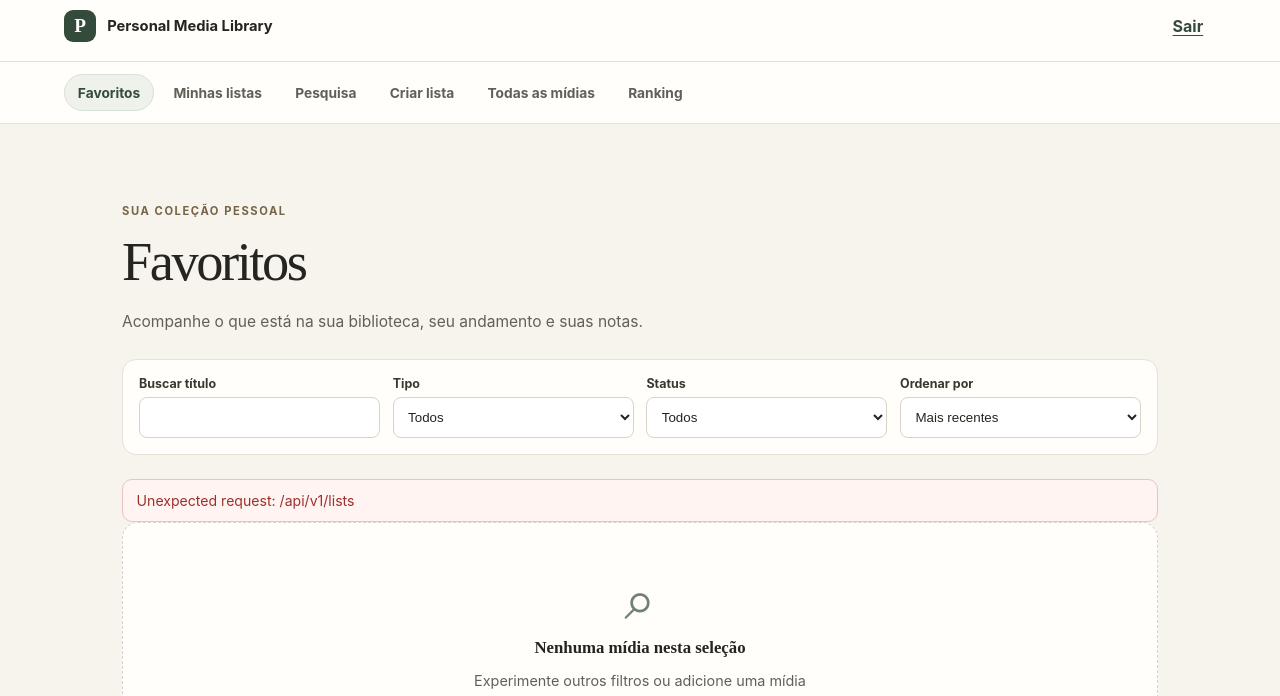
cenario6_exibirDetalhesDaMidia › loads the complete media details through the provider endpoint
Step 1. Click the button "Pesquisa" → (326, 93), box [281,74,370,111]
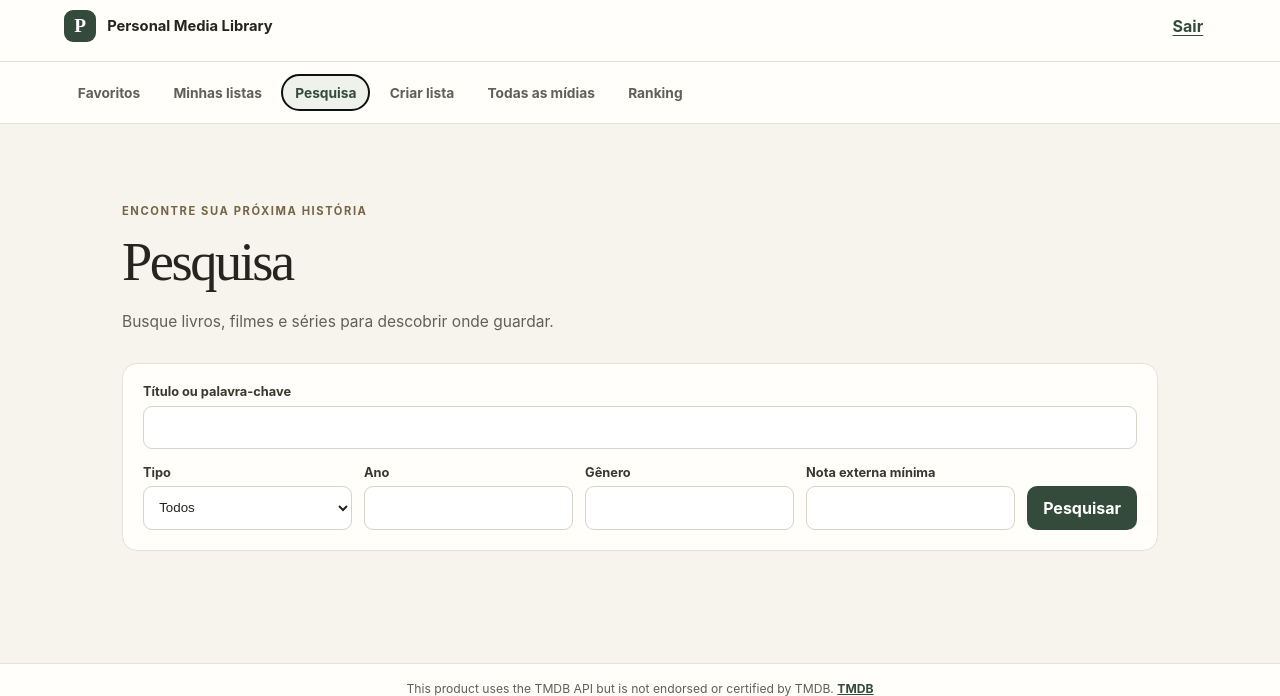
Step 2. Type "Duna" into the field labelled "Título ou palavra-chave" → (640, 427), box [143,406,1137,449]
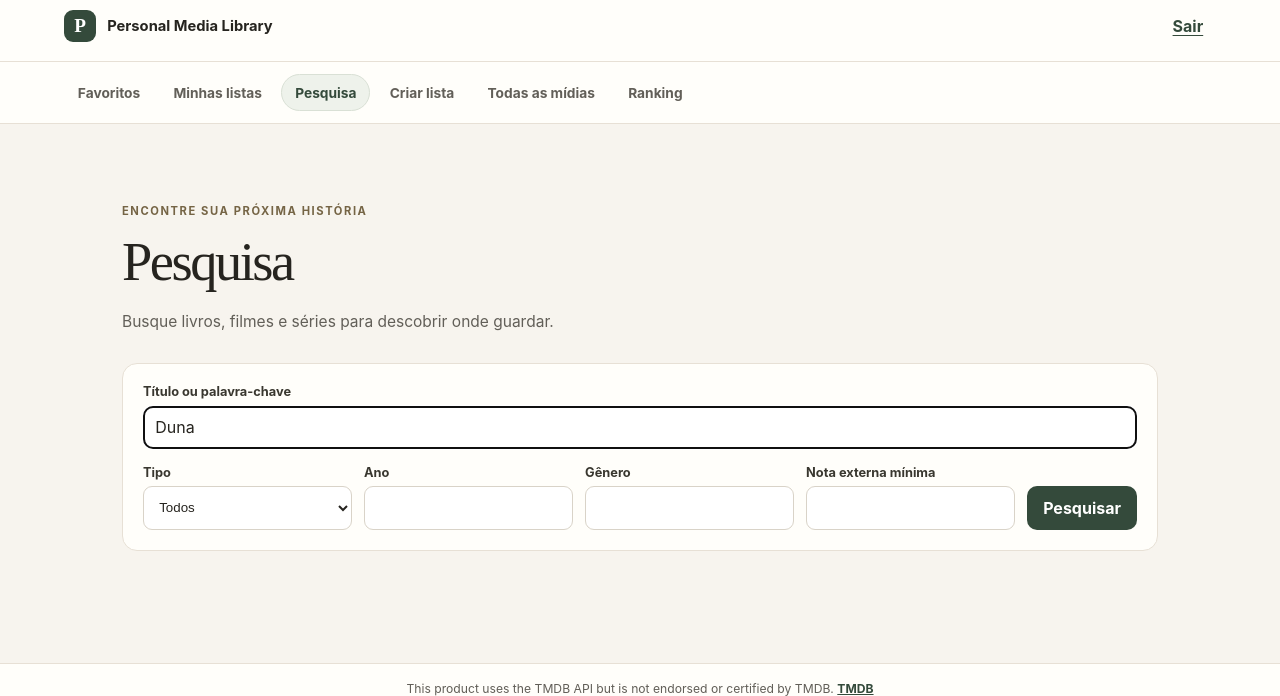
Step 3. Click the button "Pesquisar" → (1082, 508), box [1027,486,1137,530]
(page scrolled)
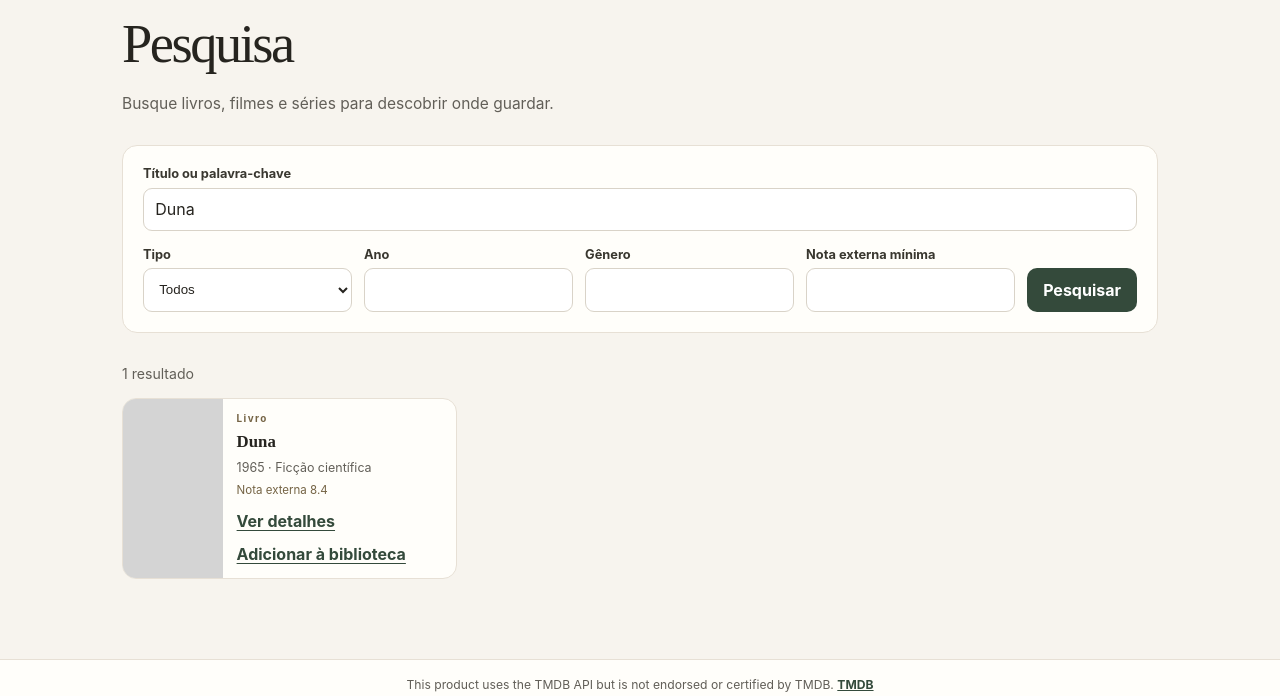
Step 4. Click the button "Ver detalhes" → (286, 518), box [237,505,335,531]
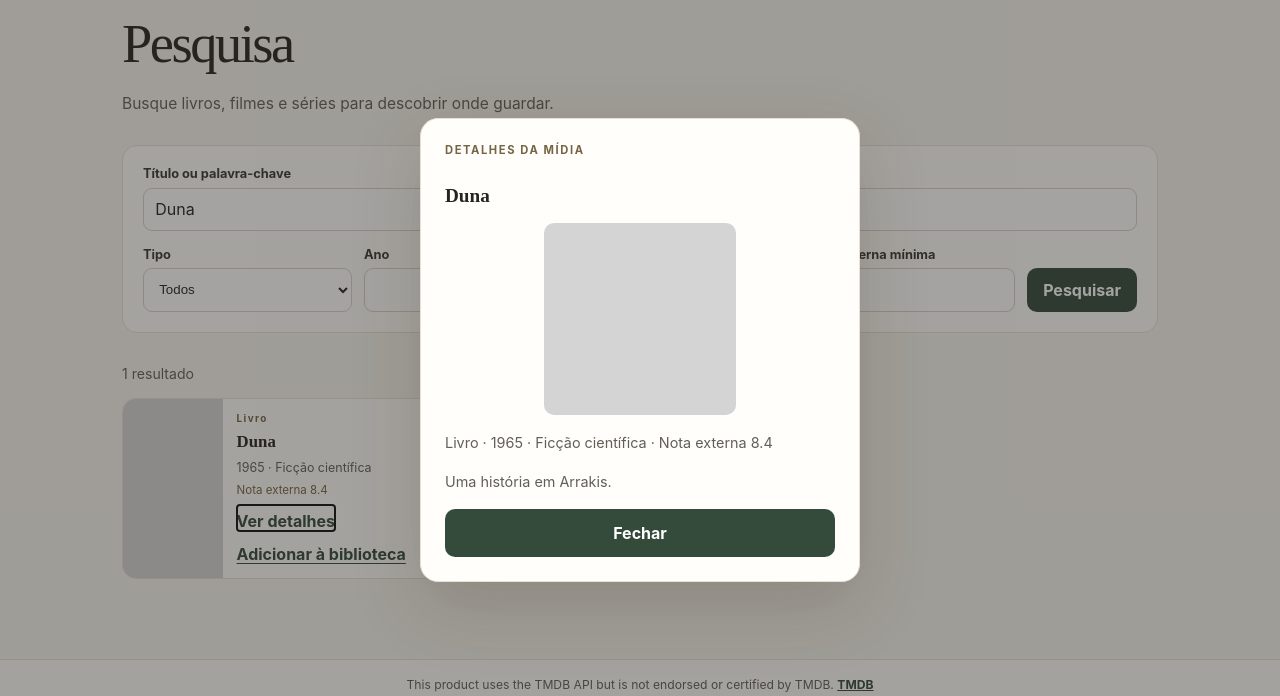
Expected: the dialog "Duna" shows "Uma história em Arrakis.", [445,473,612,490]
